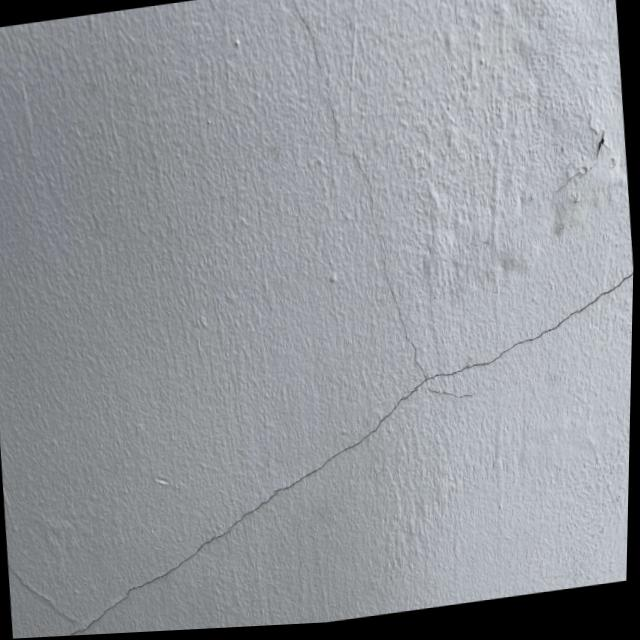Crack: (3, 379, 439, 639), (270, 0, 425, 396), (412, 267, 635, 395)
